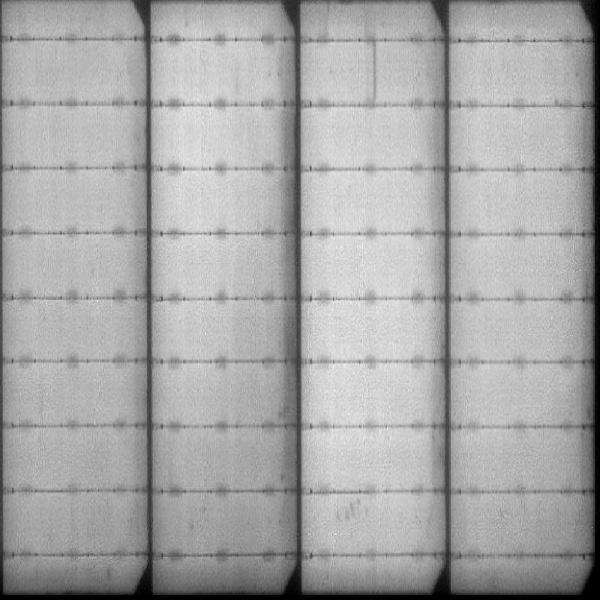scratch: (371, 40, 380, 103)
